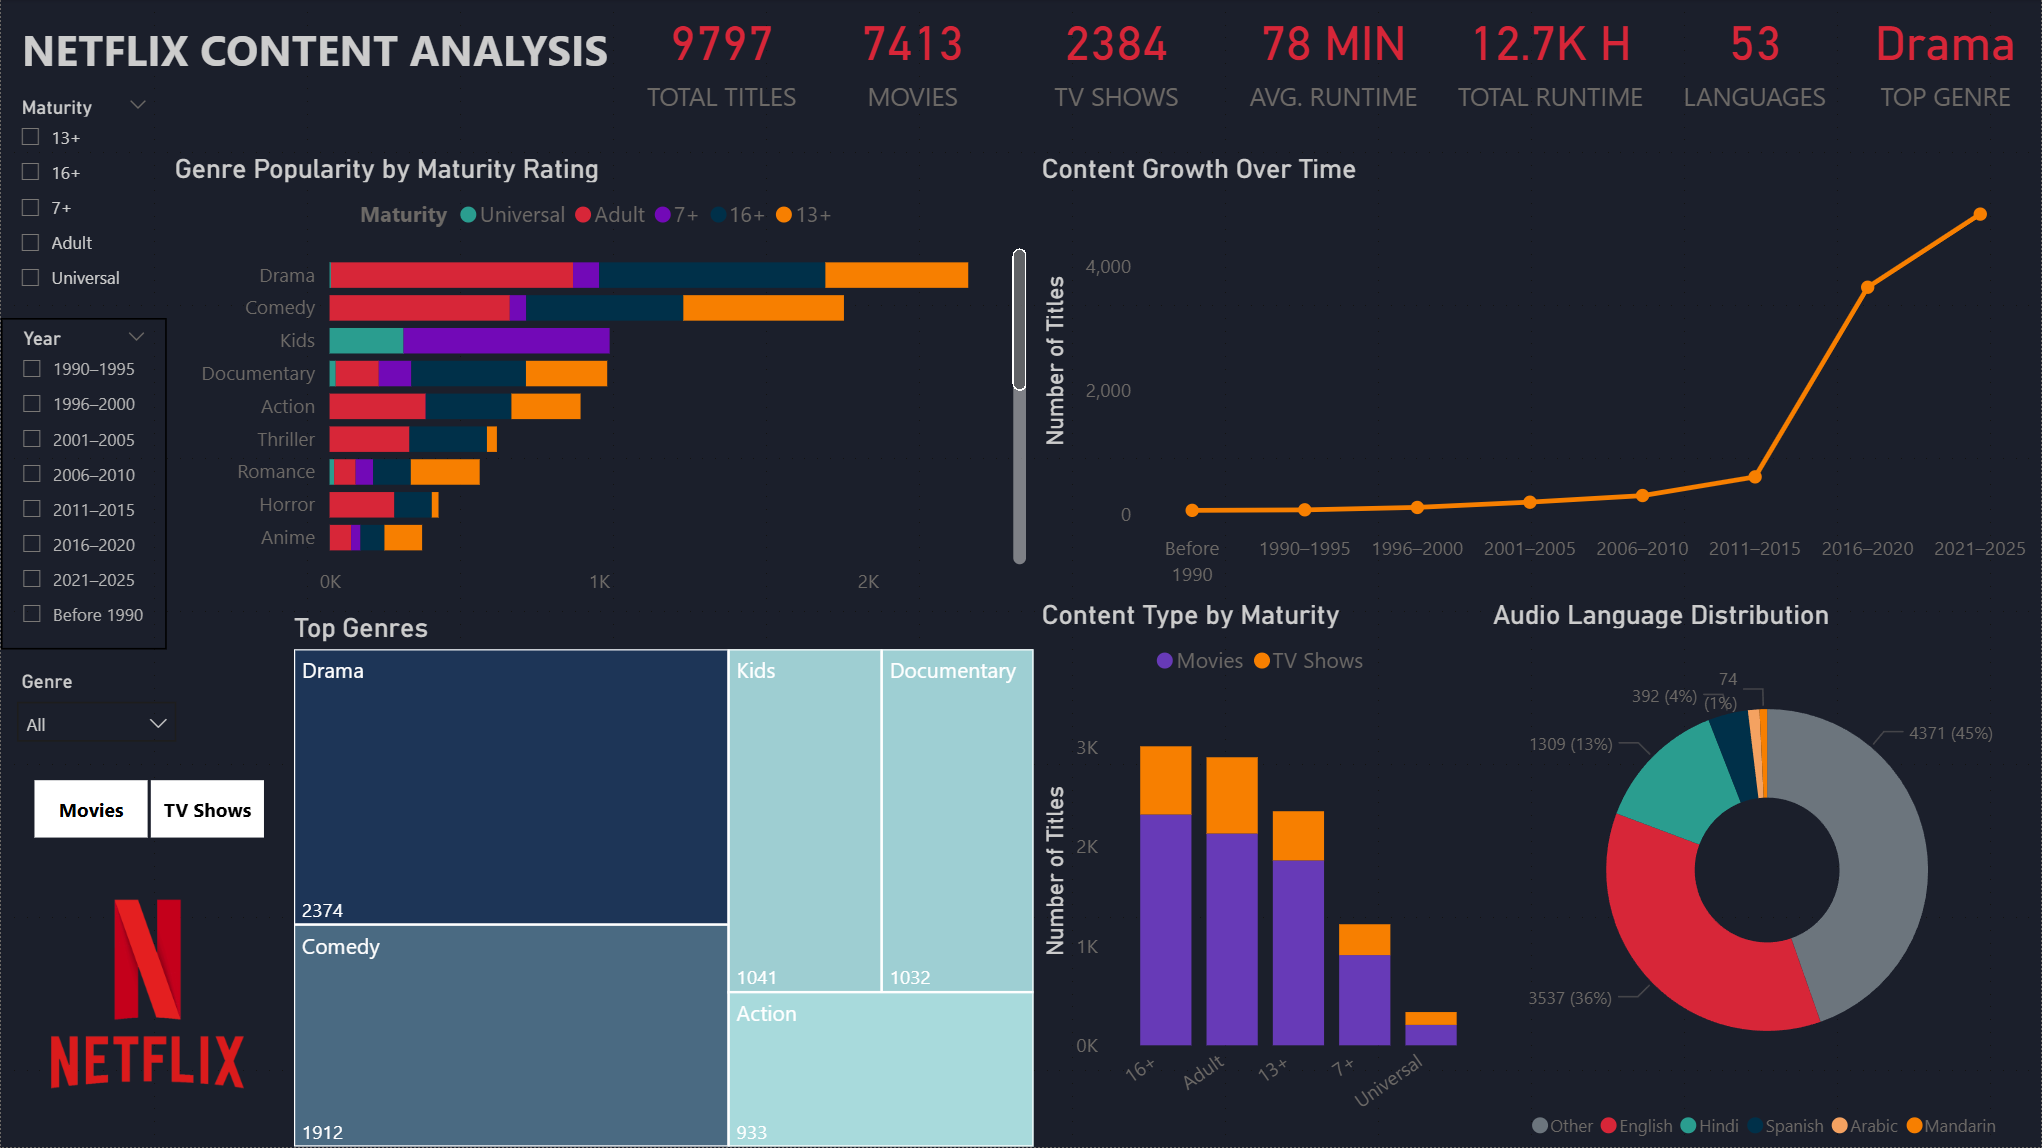

Layout of this report page (visuals, bound fields, positions):
{"tool":"powerbi","page":{"name":"EXECUTIVE SUMMARY","canvas":[1280,720],"ordinal":0},"visuals":[{"type":"textbox","box":[8,8,400,48],"z":0},{"type":"slicer","fields":{"Values":["netflix_cleaned (2).YearBucket"]},"box":[0,200,104,208],"z":1000},{"type":"barChart","title":"Genre Popularity by Maturity Rating","fields":{"Category":["netflix_cleaned (2).genre"],"Y":["CountNonNull(netflix_cleaned (2).title)"],"Series":["netflix_cleaned (2).MaturityLabel"]},"box":[104,96,544,288],"z":2000},{"type":"slicer","fields":{"Values":["netflix_cleaned (2).MaturityLabel"]},"box":[0,56,104,136],"z":3000},{"type":"slicer","fields":{"Values":["netflix_cleaned (2).genre"]},"box":[0,416,120,64],"z":4000},{"type":"donutChart","title":"Audio Language Distribution ","fields":{"Category":["netflix_cleaned (2).audio_grouped"],"Y":["CountNonNull(netflix_cleaned (2).title)"]},"box":[936,376,344,344],"z":5000},{"type":"treemap","title":"Top Genres","fields":{"Group":["netflix_cleaned (2).genre"],"Values":["CountNonNull(netflix_cleaned (2).title)"]},"box":[184,384,464,336],"z":6000},{"type":"lineChart","title":"Content Growth Over Time","fields":{"Y":["CountNonNull(netflix_cleaned (2).title)"],"Category":["netflix_cleaned (2).Era"]},"box":[648,96,632,280],"z":7000},{"type":"slicer","fields":{"Values":["netflix_cleaned.ContentType"]},"box":[0,488,184,40],"z":8000},{"type":"card","title":"TOTAL TITLES","fields":{"Values":["netflix_cleaned.TotalTitles"]},"box":[392,0,120,72],"z":9000},{"type":"card","title":"TOTAL TITLES","fields":{"Values":["netflix_cleaned.AverageRuntime"]},"box":[768,0,136,72],"z":10000},{"type":"card","title":"TOTAL TITLES","fields":{"Values":["netflix_cleaned.MovieCount"]},"box":[512,0,120,72],"z":11000},{"type":"card","title":"TOTAL TITLES","fields":{"Values":["netflix_cleaned.TVShowCount"]},"box":[632,0,136,72],"z":12000},{"type":"card","title":"TOTAL TITLES","fields":{"Values":["netflix_cleaned.UniqueLanguages"]},"box":[1040,0,120,72],"z":13000},{"type":"card","title":"TOTAL TITLES","fields":{"Values":["netflix_cleaned.TopGenre"]},"box":[1160,0,120,72],"z":14000},{"type":"card","title":"TOTAL TITLES","fields":{"Values":["netflix_cleaned.TotalRuntimeHours"]},"box":[904,0,136,72],"z":15000},{"type":"columnChart","title":"Content Type by Maturity","fields":{"Category":["netflix_cleaned.MaturityLabel"],"Y":["CountNonNull(netflix_cleaned.title)"],"Series":["netflix_cleaned.ContentType"]},"box":[648,376,288,344],"z":16000},{"type":"image","box":[0,528,184,192],"z":16001}]}

Visuals, with their boxes in screenshot pixels (x1, y1, x2, y2), scaled from the page's 1280x720 canvas onto the 2042x1148 screenshot:
textbox: (13,13,651,89)
slicer - netflix_cleaned (2).YearBucket: (0,319,166,651)
"Genre Popularity by Maturity Rating" barChart: (166,153,1034,612)
slicer - netflix_cleaned (2).MaturityLabel: (0,89,166,306)
slicer - netflix_cleaned (2).genre: (0,663,191,765)
"Audio Language Distribution " donutChart: (1493,600,2041,1147)
"Top Genres" treemap: (294,612,1034,1147)
"Content Growth Over Time" lineChart: (1034,153,2041,600)
slicer - netflix_cleaned.ContentType: (0,778,294,842)
"TOTAL TITLES" card: (625,0,817,115)
"TOTAL TITLES" card: (1225,0,1442,115)
"TOTAL TITLES" card: (817,0,1008,115)
"TOTAL TITLES" card: (1008,0,1225,115)
"TOTAL TITLES" card: (1659,0,1851,115)
"TOTAL TITLES" card: (1851,0,2041,115)
"TOTAL TITLES" card: (1442,0,1659,115)
"Content Type by Maturity" columnChart: (1034,600,1493,1147)
image: (0,842,294,1147)
